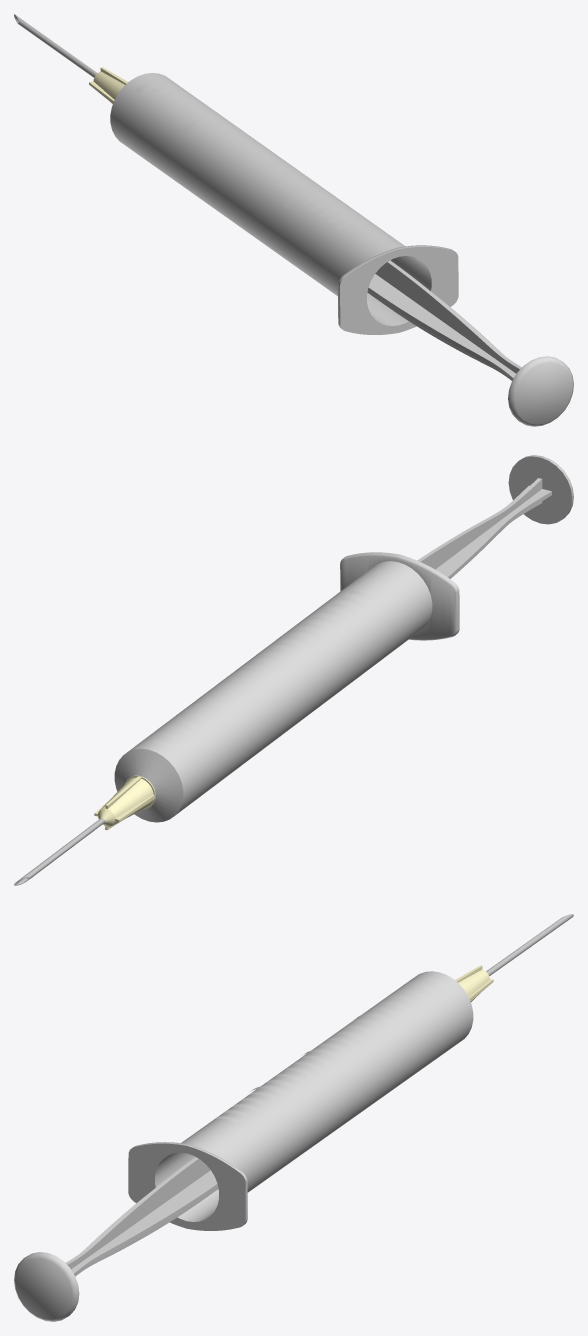
The picture shows the model from 3 angles, top to bottom: view 1: azimuth 30°, elevation 25°; view 2: azimuth 150°, elevation 25°; view 3: azimuth 330°, elevation 25°; orthographic projection.
Parts seen in each view (by area): view 1: Group_003, Group_006, Group_004, Group_001, Group_002; view 2: Group_003, Group_006, Group_001, Group_004, Group_002; view 3: Group_003, Group_006, Group_004, Group_001, Group_002.
Boxes of the visible parts, left/top/right/bottom form: Group_003: left=110, top=73, right=458, bottom=334; Group_006: left=367, top=260, right=521, bottom=380; Group_004: left=508, top=356, right=573, bottom=426; Group_001: left=135, top=78, right=361, bottom=229; Group_002: left=14, top=14, right=128, bottom=104; Group_003: left=114, top=552, right=459, bottom=822; Group_006: left=417, top=478, right=551, bottom=578; Group_001: left=138, top=591, right=373, bottom=752; Group_004: left=508, top=455, right=573, bottom=524; Group_002: left=14, top=775, right=155, bottom=885; Group_003: left=128, top=971, right=473, bottom=1230; Group_006: left=65, top=1157, right=218, bottom=1276; Group_004: left=14, top=1252, right=79, bottom=1321; Group_001: left=215, top=976, right=452, bottom=1122; Group_002: left=455, top=914, right=573, bottom=1002.
Size of the model in its own units: 43.62 by 29.45 by 340.
